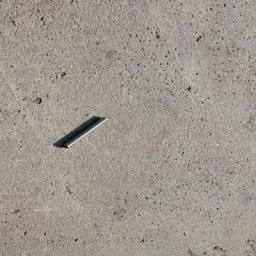FOD: (56, 110, 111, 151)
